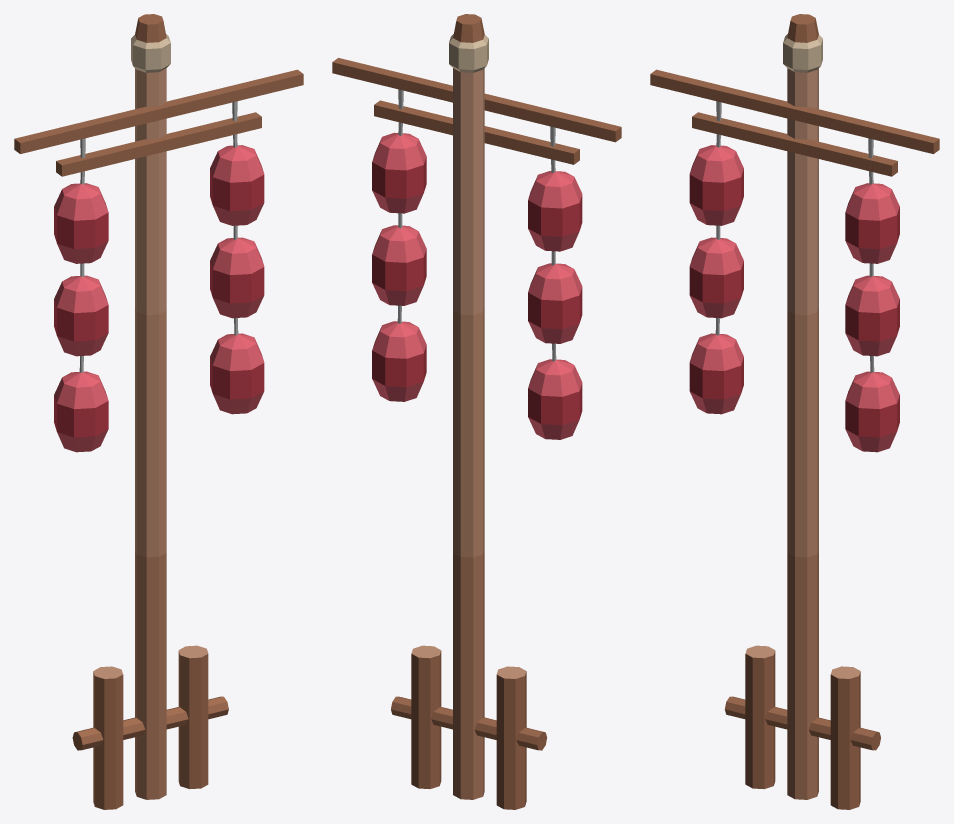
The model's file is lamp_2.fbx.
3 views of the same model, side by side, from view 1: azimuth 30°, elevation 25°; view 2: azimuth 150°, elevation 25°; view 3: azimuth 330°, elevation 25° (orthographic).
Parts seen in each view (by area): view 1: lamp_2; view 2: lamp_2; view 3: lamp_2.
Boxes of the visible parts, bbox=[...] form: lamp_2: bbox=[14, 14, 303, 809]; lamp_2: bbox=[332, 14, 621, 809]; lamp_2: bbox=[650, 14, 939, 809].
Bounding box in the file's own units: 201 × 525 × 40.36.
